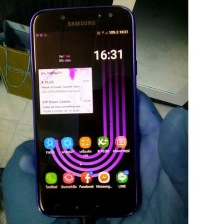phone: (26, 1, 147, 223)
